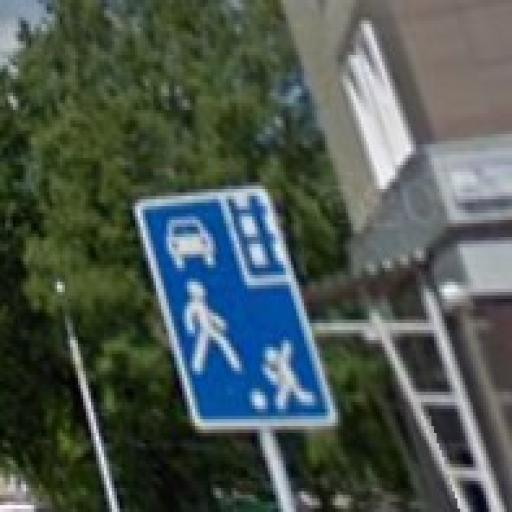traffic_sign: (136, 187, 342, 431)
